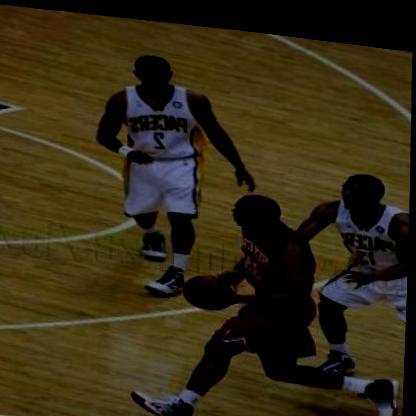basketball: (184, 258, 239, 311)
